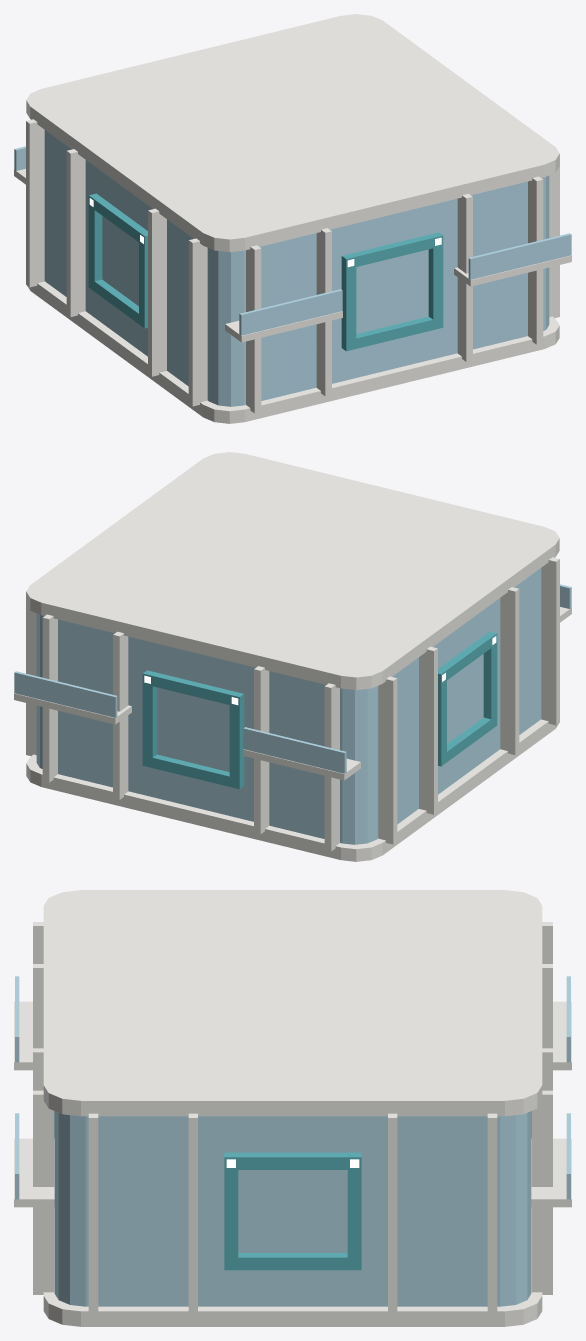
The model's file is arcology-towers-and-skyways-residential-section-31219788__23235.glb.
3 views of the same model, one above another, from view 1: azimuth 30°, elevation 25°; view 2: azimuth 150°, elevation 25°; view 3: azimuth 270°, elevation 25° (orthographic). The views are drawn at different scales.
Visible parts, largest first — view 1: residential-section; view 2: residential-section; view 3: residential-section.
Boxes of the visible parts, x1,y1,x2,y2 form: residential-section: [14, 14, 571, 423]; residential-section: [14, 452, 571, 861]; residential-section: [14, 890, 571, 1326].
Size of the model in its own units: 16.68 by 8 by 17.9.
